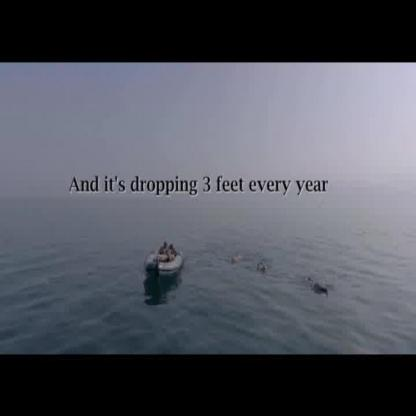Boat: (139, 240, 187, 280)
